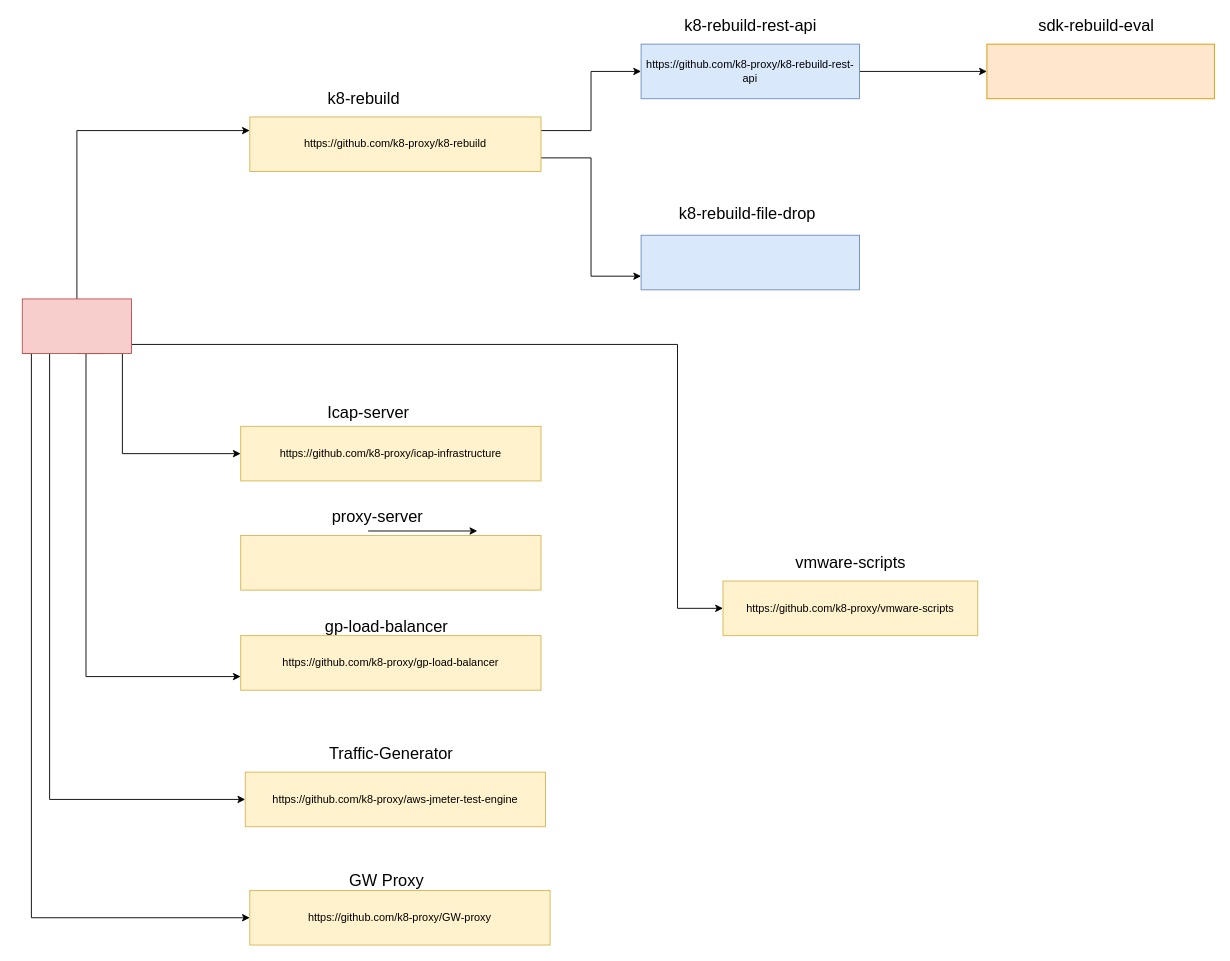
The diagram is 1230 pixels wide and 961 high, and some of its shapes have lost their labels. The shapes that lost their labels are listed below. From the top down, each one's box as (x1, y1, x2, y2) in pixels, then its label:
(986, 43, 1214, 99): https://github.com/filetrust/sdk-rebuild-eval
(640, 234, 859, 290): https://github.com/k8-proxy/k8-rebuild-file-drop
(21, 298, 131, 354): GW-Releases
(240, 535, 541, 590): https://github.com/k8-proxy/s-k8-proxy-rebuild
